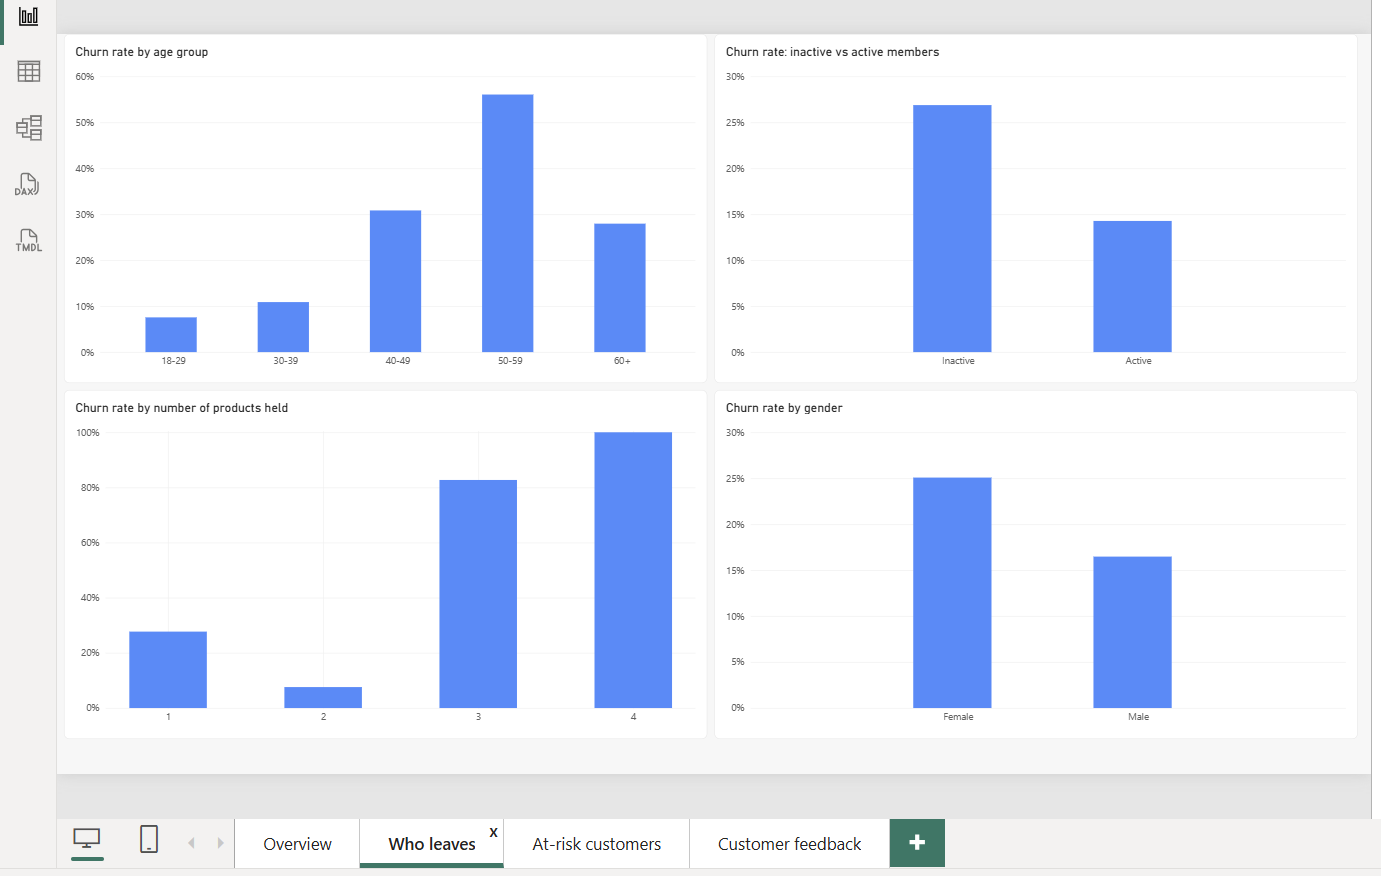

The dashboard page shown, as its layout file describes it:
{"tool":"powerbi","page":{"name":"Who leaves","canvas":[1920,1080],"ordinal":1},"visuals":[{"type":"clusteredColumnChart","title":"Churn rate by age group","fields":{"Category":["bank_customers.Age Group"],"Y":["bank_customers.Churn Rate"]},"box":[10,0,940,510],"z":0},{"type":"clusteredColumnChart","title":"Churn rate by number of products held","fields":{"Category":["bank_customers.NumOfProducts"],"Y":["bank_customers.Churn Rate"]},"box":[10,520,940,510],"z":1},{"type":"clusteredColumnChart","title":"Churn rate: inactive vs active members","fields":{"Category":["bank_customers.Activity Status"],"Y":["bank_customers.Churn Rate"]},"box":[960,0,940,510],"z":2},{"type":"clusteredColumnChart","title":"Churn rate by gender","fields":{"Category":["bank_customers.Gender"],"Y":["bank_customers.Churn Rate"]},"box":[960,520,940,510],"z":3}]}

Visuals, with their boxes on the page's 1920x1080 design canvas (x1, y1, x2, y2). These are canvas units, not pixel positions in the 1381x876 screenshot, which may show the page scaled, cropped or inside an application window:
"Churn rate by age group" clusteredColumnChart: region(10, 0, 950, 510)
"Churn rate by number of products held" clusteredColumnChart: region(10, 520, 950, 1030)
"Churn rate: inactive vs active members" clusteredColumnChart: region(960, 0, 1900, 510)
"Churn rate by gender" clusteredColumnChart: region(960, 520, 1900, 1030)
